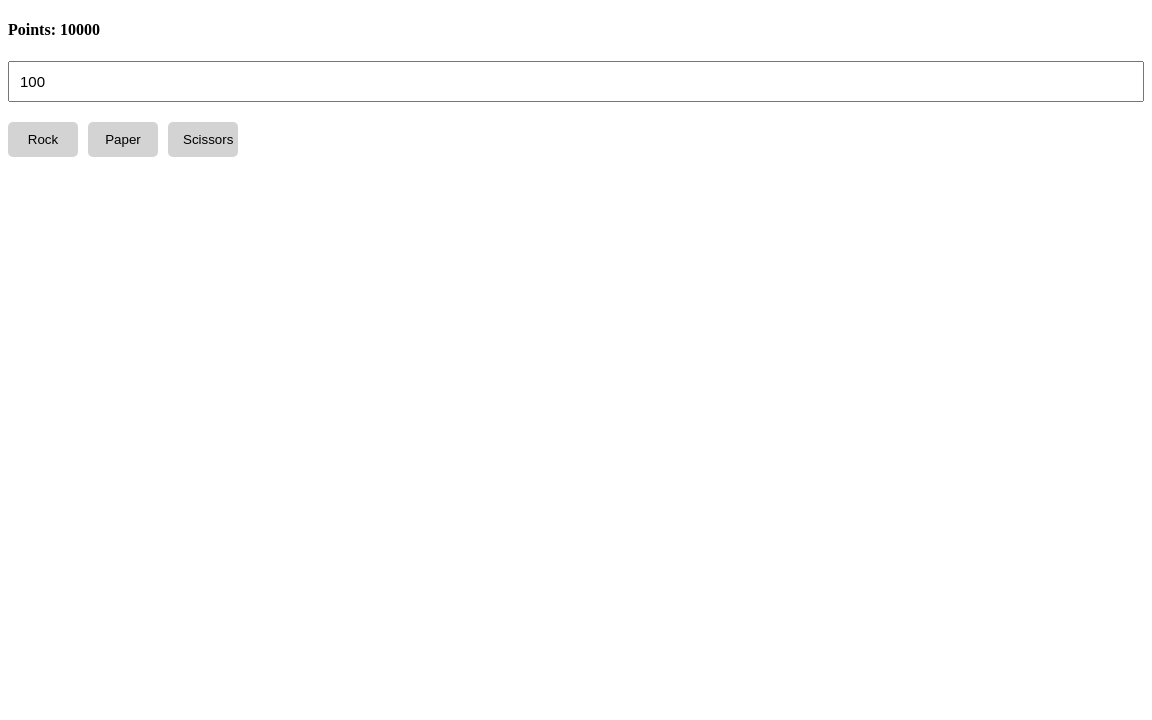
Rock-Paper-Scissors Component › displays correct game-result-message when player wins/draws/loses with Scissors
This screenshot has width=1152, height=720.
Replace the text in the number field with test id "Bet-Amount" with "600": point(576, 81) [8,60,1144,102]
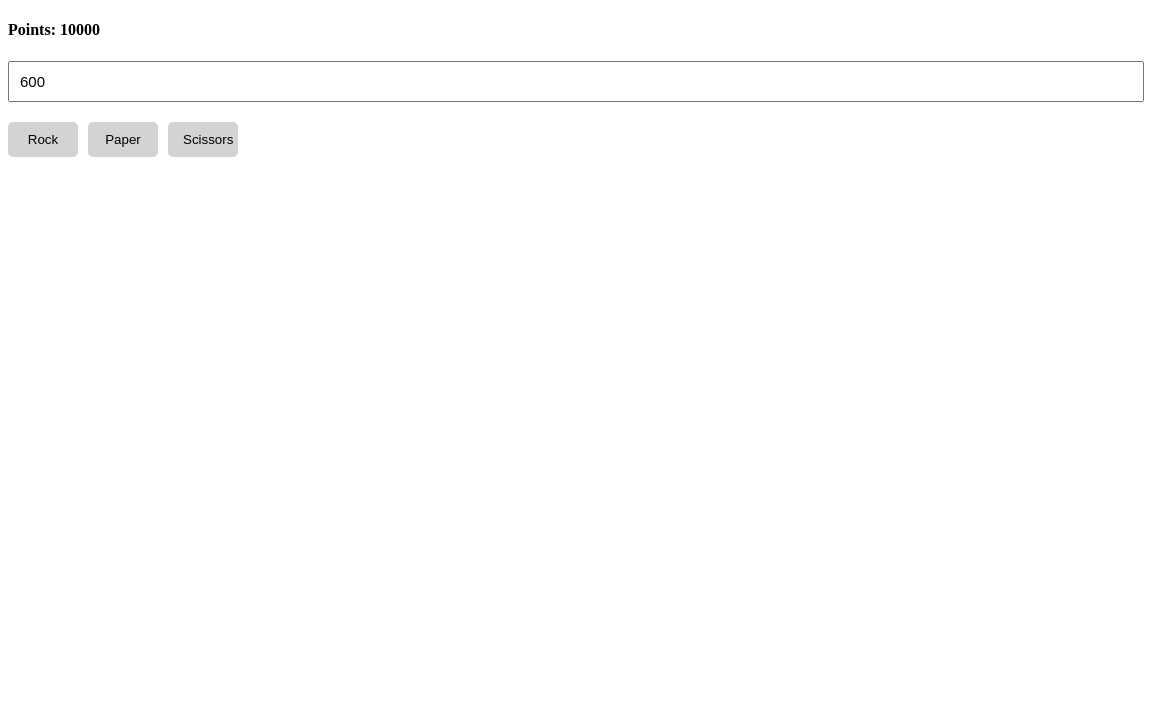
Click the button "Scissors": point(203, 139) [168,122,238,156]
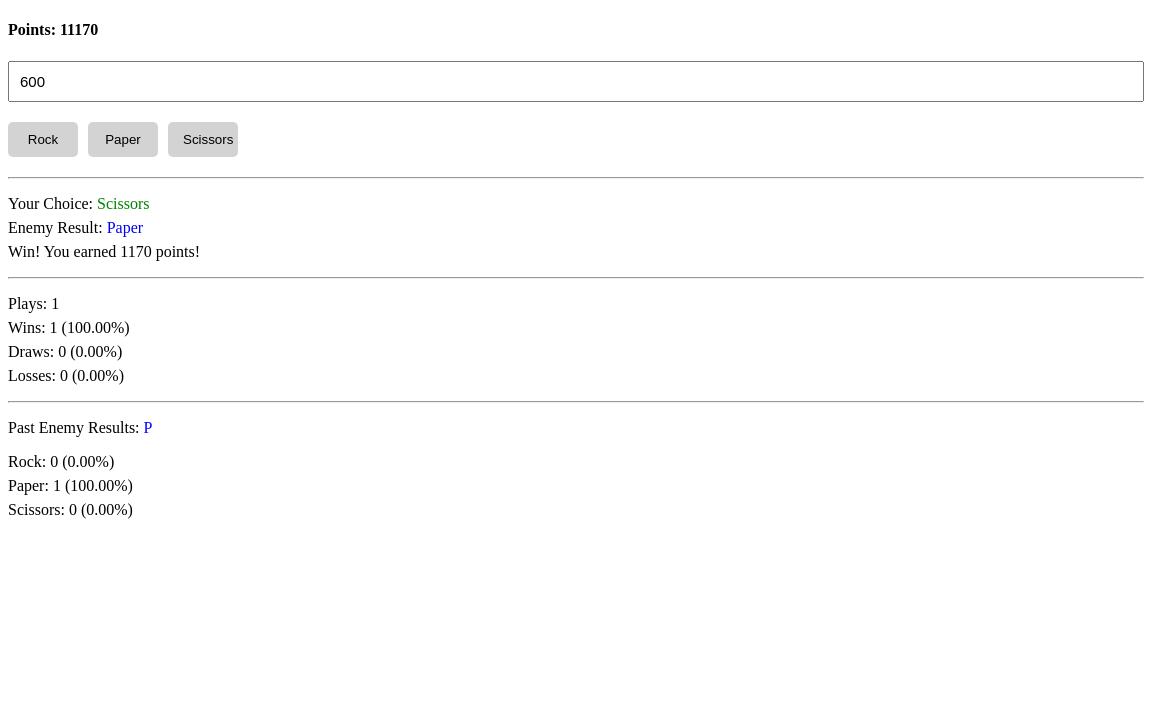
expect the text "Win! You earned 1170 points!" is shown: met, box [8,242,200,260]
